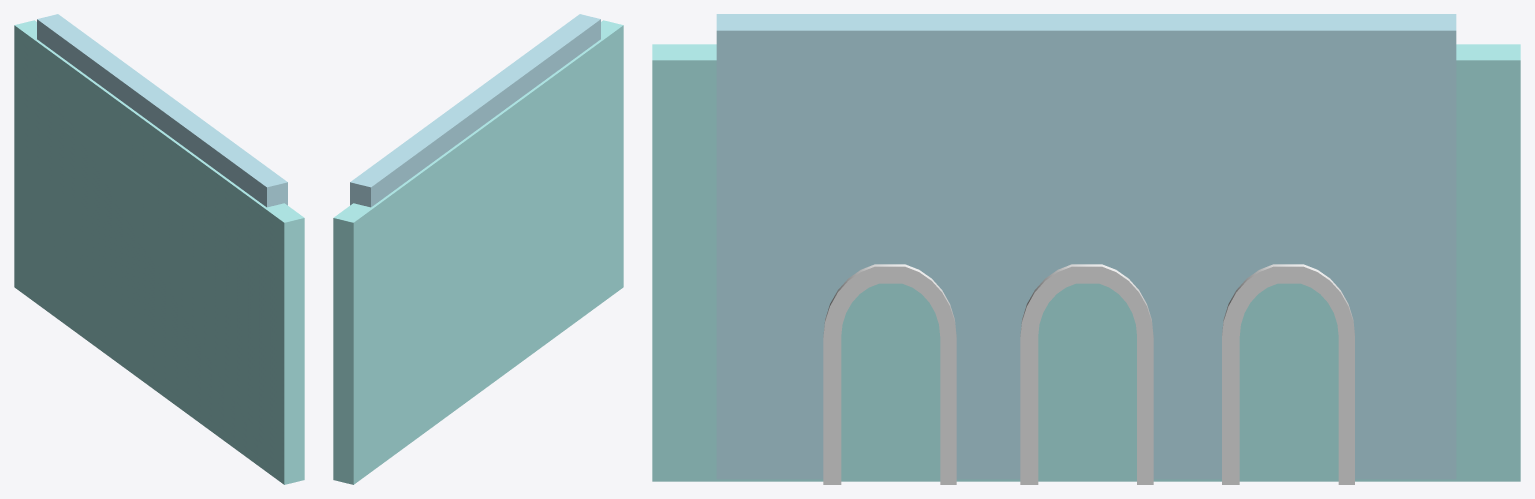
Rendered from wall-B2.fbx.
The picture shows the model from 3 angles, left to right: view 1: azimuth 30°, elevation 25°; view 2: azimuth 150°, elevation 25°; view 3: azimuth 270°, elevation 25°; orthographic projection. The views are drawn at different scales.
Visible parts, largest first — view 1: 立方体.004, 立方体.008; view 2: 立方体.004, 立方体.008; view 3: 立方体.008, 立方体.004, ふち１.002, ふち１.001, ふち１.003.
Boxes of the visible parts, <box> form: 立方体.004: <box>14,20,304,484</box>; 立方体.008: <box>37,14,287,207</box>; 立方体.004: <box>333,20,623,484</box>; 立方体.008: <box>350,14,600,207</box>; 立方体.008: <box>716,14,1456,479</box>; 立方体.004: <box>652,44,1520,481</box>; ふち１.002: <box>1020,264,1153,484</box>; ふち１.001: <box>823,264,956,484</box>; ふち１.003: <box>1222,264,1354,484</box>.
Bounding box in the file's own units: 0.653 × 6.59 × 11.43.
